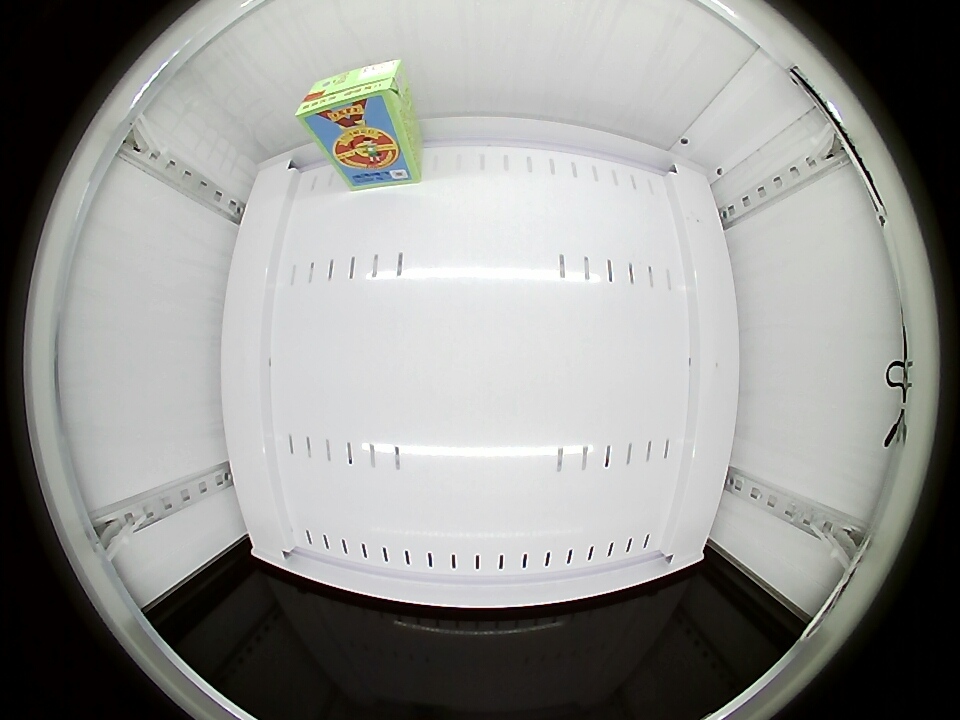wanglaoji: (296, 59, 407, 134)
